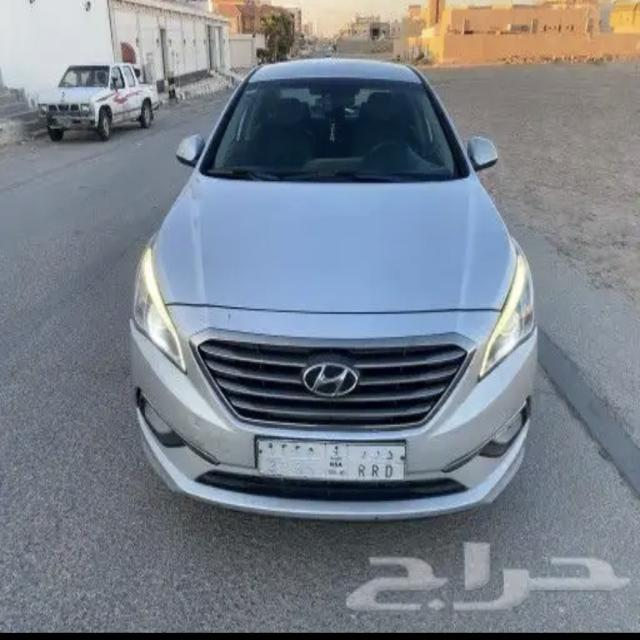license_plate: (256, 434, 414, 484)
